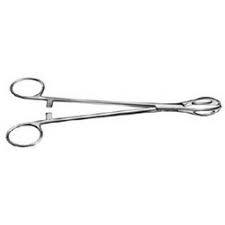Lane Tissue Forceps: (3, 66, 224, 148)
